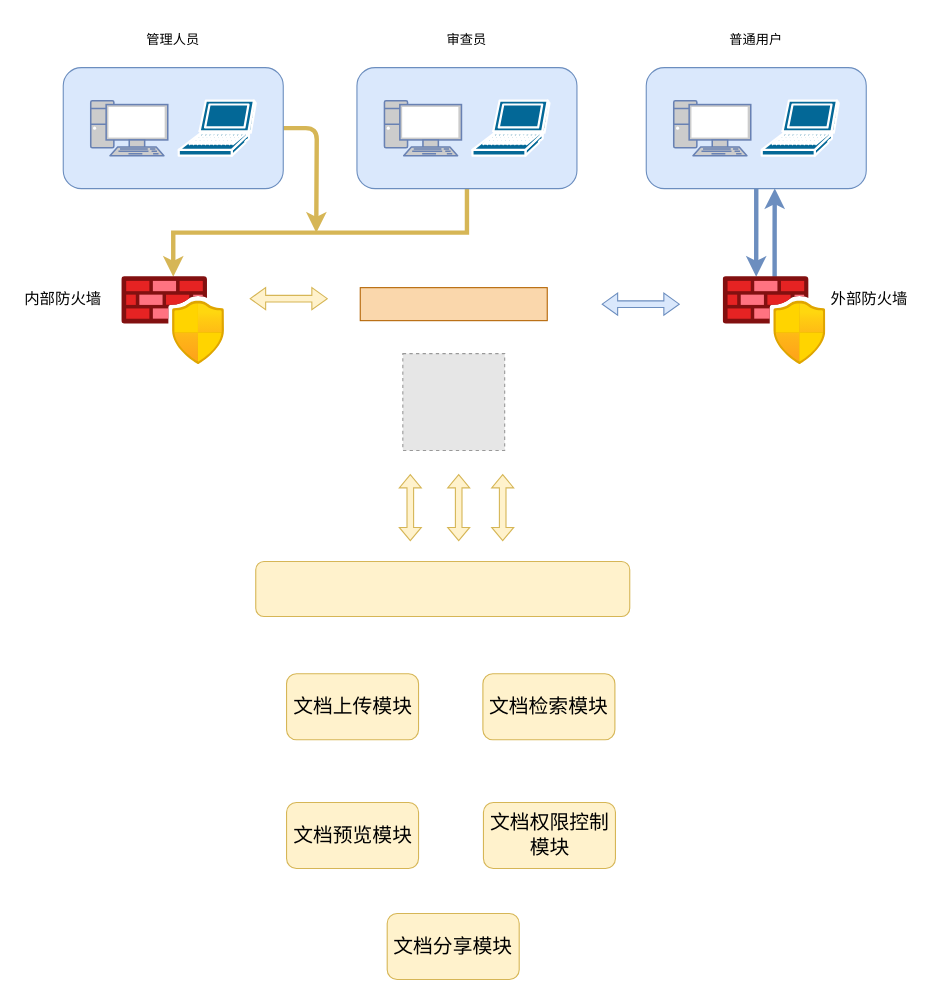
The diagram is 933 pixels wide and 999 high, and some of its shapes have lost their labels. Grey dashed boxes stand in for pictures. Each missing label, with the centre of its shape:
数据交换中心: the point at 453,304
文档存储检索系统: the point at 442,588
